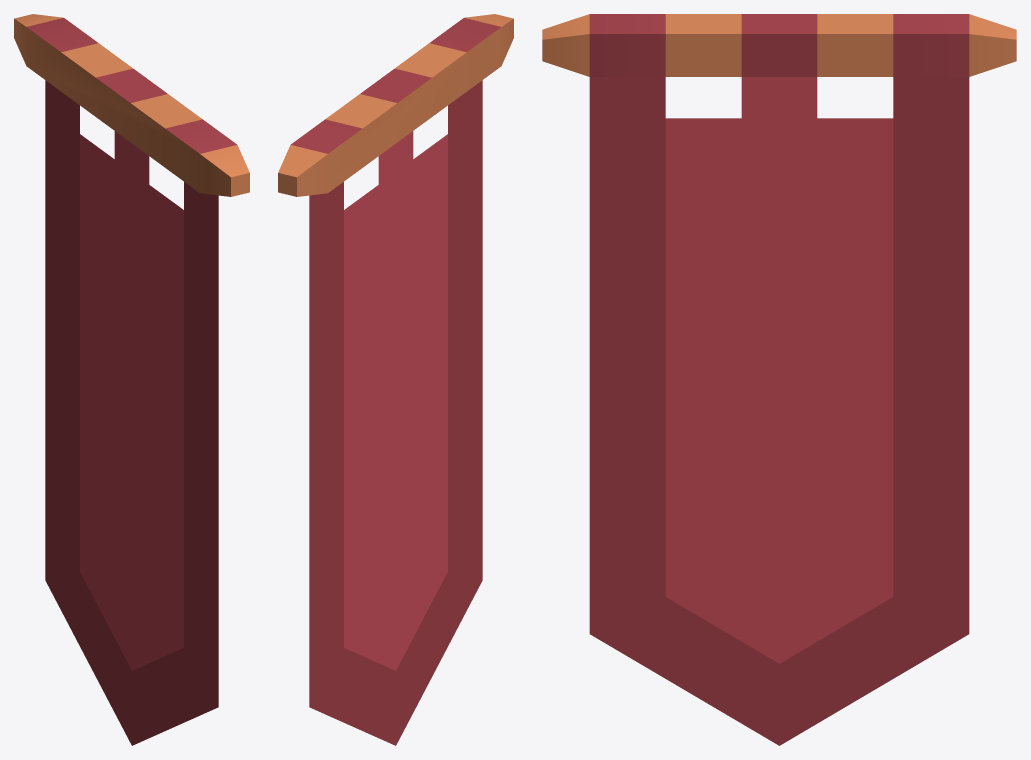
Rendered from d_kenney_oriflamme_rouge.glb.
The picture shows the model from 3 angles, left to right: view 1: azimuth 30°, elevation 25°; view 2: azimuth 150°, elevation 25°; view 3: azimuth 270°, elevation 25°; orthographic projection. The views are drawn at different scales.
Visible parts, largest first — view 1: d_kenney_oriflamme_rouge; view 2: d_kenney_oriflamme_rouge; view 3: d_kenney_oriflamme_rouge.
Boxes of the visible parts, x1,y1,x2,y2 form: d_kenney_oriflamme_rouge: (14, 14, 249, 745); d_kenney_oriflamme_rouge: (278, 14, 513, 745); d_kenney_oriflamme_rouge: (542, 14, 1016, 745).
Bounding box in the file's own units: 0.05 × 0.8394 × 0.5.
Materials: 1 (1 with a texture image).
